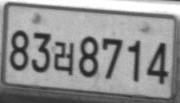1: (125, 40, 146, 82)
3: (31, 31, 51, 73)
4: (146, 41, 169, 85)
7: (101, 37, 123, 79)
8: (77, 35, 99, 77), (9, 29, 29, 71)
러: (53, 41, 74, 75)
